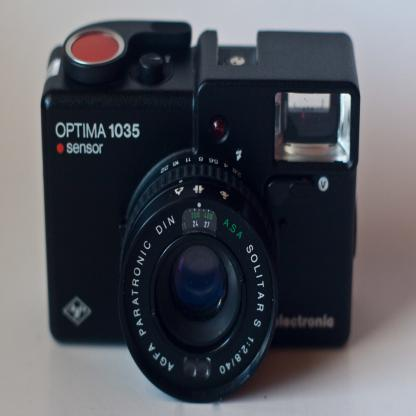Camera: (43, 20, 367, 408)
